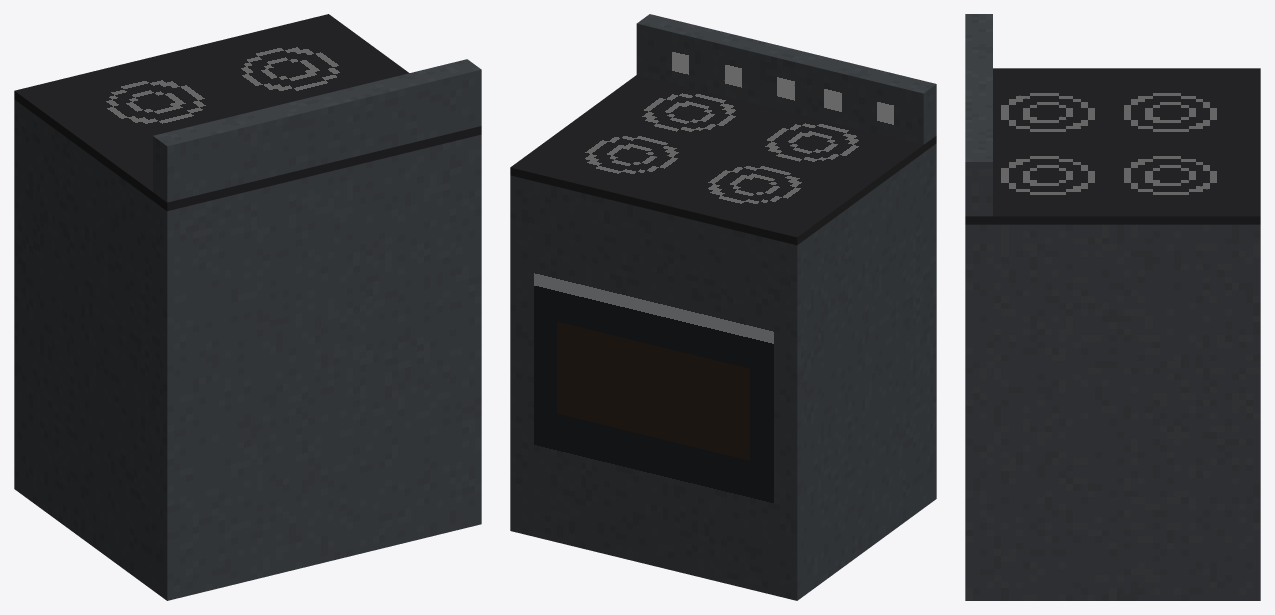
Rendered from f_oven.glb.
The picture shows the model from 3 angles, left to right: view 1: azimuth 30°, elevation 25°; view 2: azimuth 150°, elevation 25°; view 3: azimuth 270°, elevation 25°; orthographic projection. The views are drawn at different scales.
Parts seen in each view (by area): view 1: block_body, block_top, block_backguard; view 2: block_body, block_top, block_backguard; view 3: block_body, block_top, block_backguard.
Part boxes in pixels (bbox=[...]): block_body: bbox=[14, 99, 481, 600]; block_top: bbox=[14, 14, 481, 211]; block_backguard: bbox=[153, 59, 481, 202]; block_body: bbox=[510, 143, 936, 600]; block_top: bbox=[510, 75, 936, 245]; block_backguard: bbox=[636, 14, 936, 144]; block_body: bbox=[965, 224, 1260, 600]; block_top: bbox=[965, 68, 1260, 224]; block_backguard: bbox=[965, 14, 992, 216].
Size of the model in its own units: 0.76 by 1.05 by 0.64.
Materials: 1 (1 with a texture image).
